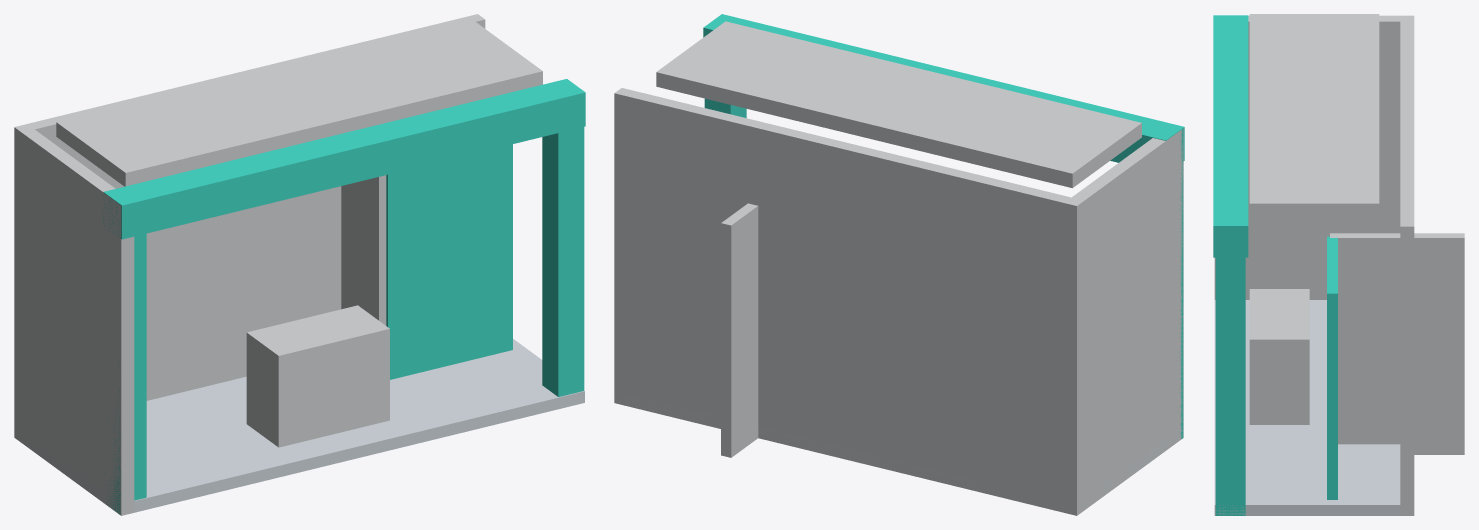
The picture shows the model from 3 angles, left to right: view 1: azimuth 30°, elevation 25°; view 2: azimuth 150°, elevation 25°; view 3: azimuth 270°, elevation 25°; orthographic projection. The views are drawn at different scales.
Visible parts, largest first — view 1: Exhibition Booth Concept; view 2: Exhibition Booth Concept; view 3: Exhibition Booth Concept.
Part boxes in pixels (x1=…): Exhibition Booth Concept: x1=14, y1=14, x2=585, y2=515; Exhibition Booth Concept: x1=614, y1=14, x2=1184, y2=515; Exhibition Booth Concept: x1=1213, y1=14, x2=1464, y2=515.
Size of the model in its own units: 5 by 3.34 by 2.52.
